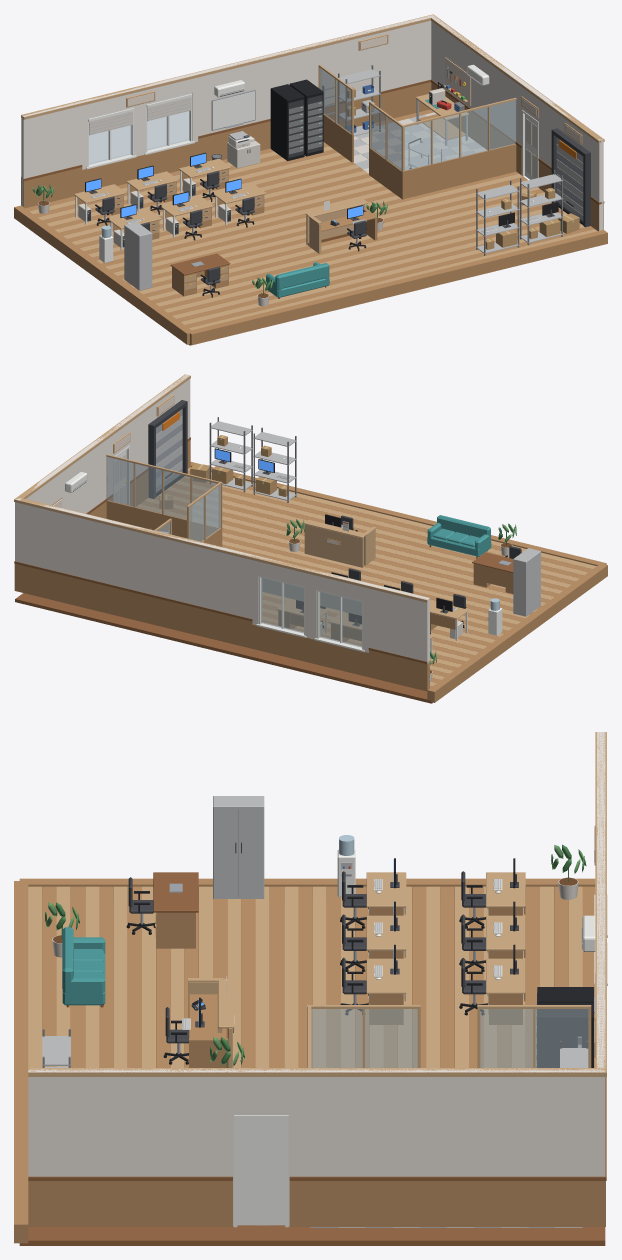
Rendered from office_demo.glb.
3 views of the same model, one above another, from view 1: azimuth 30°, elevation 25°; view 2: azimuth 150°, elevation 25°; view 3: azimuth 270°, elevation 25° (orthographic). The views are drawn at different scales.
Parts seen in each view (by area): view 1: office_demo, office_demo_shell_glass, rack_server#054, desk_helpdesk#036, cabinet_file#048, rack_server#055, desk_manager#045, sofa_waiting#043, shelf_storage#072, shelf_storage#079, whiteboard#051_whiteboard_surface, workbench_repair#059 (+11 smaller); view 2: office_demo, office_demo_shell_glass, desk_helpdesk#036, sofa_waiting#043, cabinet_file#048, shelf_storage#079, shelf_storage#072, desk_manager#045, desk_staff#018, desk_staff#012, desk_staff#006, water_cooler#049; view 3: office_demo, office_demo_shell_glass, cabinet_file#048, desk_helpdesk#036, desk_manager#045, sofa_waiting#043, rack_server#055, desk_staff#030, desk_staff#012, desk_staff#024, desk_staff#018, desk_staff#006 (+13 smaller).
Boxes of the visible parts, <box> form: office_demo: <box>14,14,607,345</box>; office_demo_shell_glass: <box>89,68,515,170</box>; rack_server#054: <box>270,84,304,160</box>; desk_helpdesk#036: <box>306,199,377,253</box>; cabinet_file#048: <box>124,222,152,290</box>; rack_server#055: <box>289,79,323,156</box>; desk_manager#045: <box>170,253,230,296</box>; sofa_waiting#043: <box>266,262,329,298</box>; shelf_storage#072: <box>476,180,519,255</box>; shelf_storage#079: <box>520,170,563,245</box>; whiteboard#051_whiteboard_surface: <box>213,91,254,129</box>; workbench_repair#059: <box>415,82,468,145</box>; office_demo: <box>14,374,607,703</box>; office_demo_shell_glass: <box>106,457,361,647</box>; desk_helpdesk#036: <box>304,520,376,567</box>; sofa_waiting#043: <box>427,515,491,558</box>; cabinet_file#048: <box>513,548,540,616</box>; shelf_storage#079: <box>209,417,252,492</box>; shelf_storage#072: <box>253,427,296,502</box>; desk_manager#045: <box>472,552,513,593</box>; desk_staff#018: <box>430,600,468,640</box>; desk_staff#012: <box>276,600,328,633</box>; desk_staff#006: <box>329,614,361,641</box>; water_cooler#049: <box>487,598,502,635</box>; office_demo: <box>14,732,607,1245</box>; office_demo_shell_glass: <box>311,1009,588,1067</box>; cabinet_file#048: <box>213,796,264,898</box>; desk_helpdesk#036: <box>188,978,234,1067</box>; desk_manager#045: <box>153,872,198,948</box>; sofa_waiting#043: <box>62,927,105,1007</box>; rack_server#055: <box>536,1002,593,1067</box>; desk_staff#030: <box>366,958,406,1024</box>; desk_staff#012: <box>486,958,525,1024</box>; desk_staff#024: <box>366,915,406,958</box>; desk_staff#018: <box>366,872,406,915</box>; desk_staff#006: <box>486,915,525,958</box>.
Bounding box in the file's own units: 14.42 × 3.37 × 10.44.
6 materials, 1 textured.
